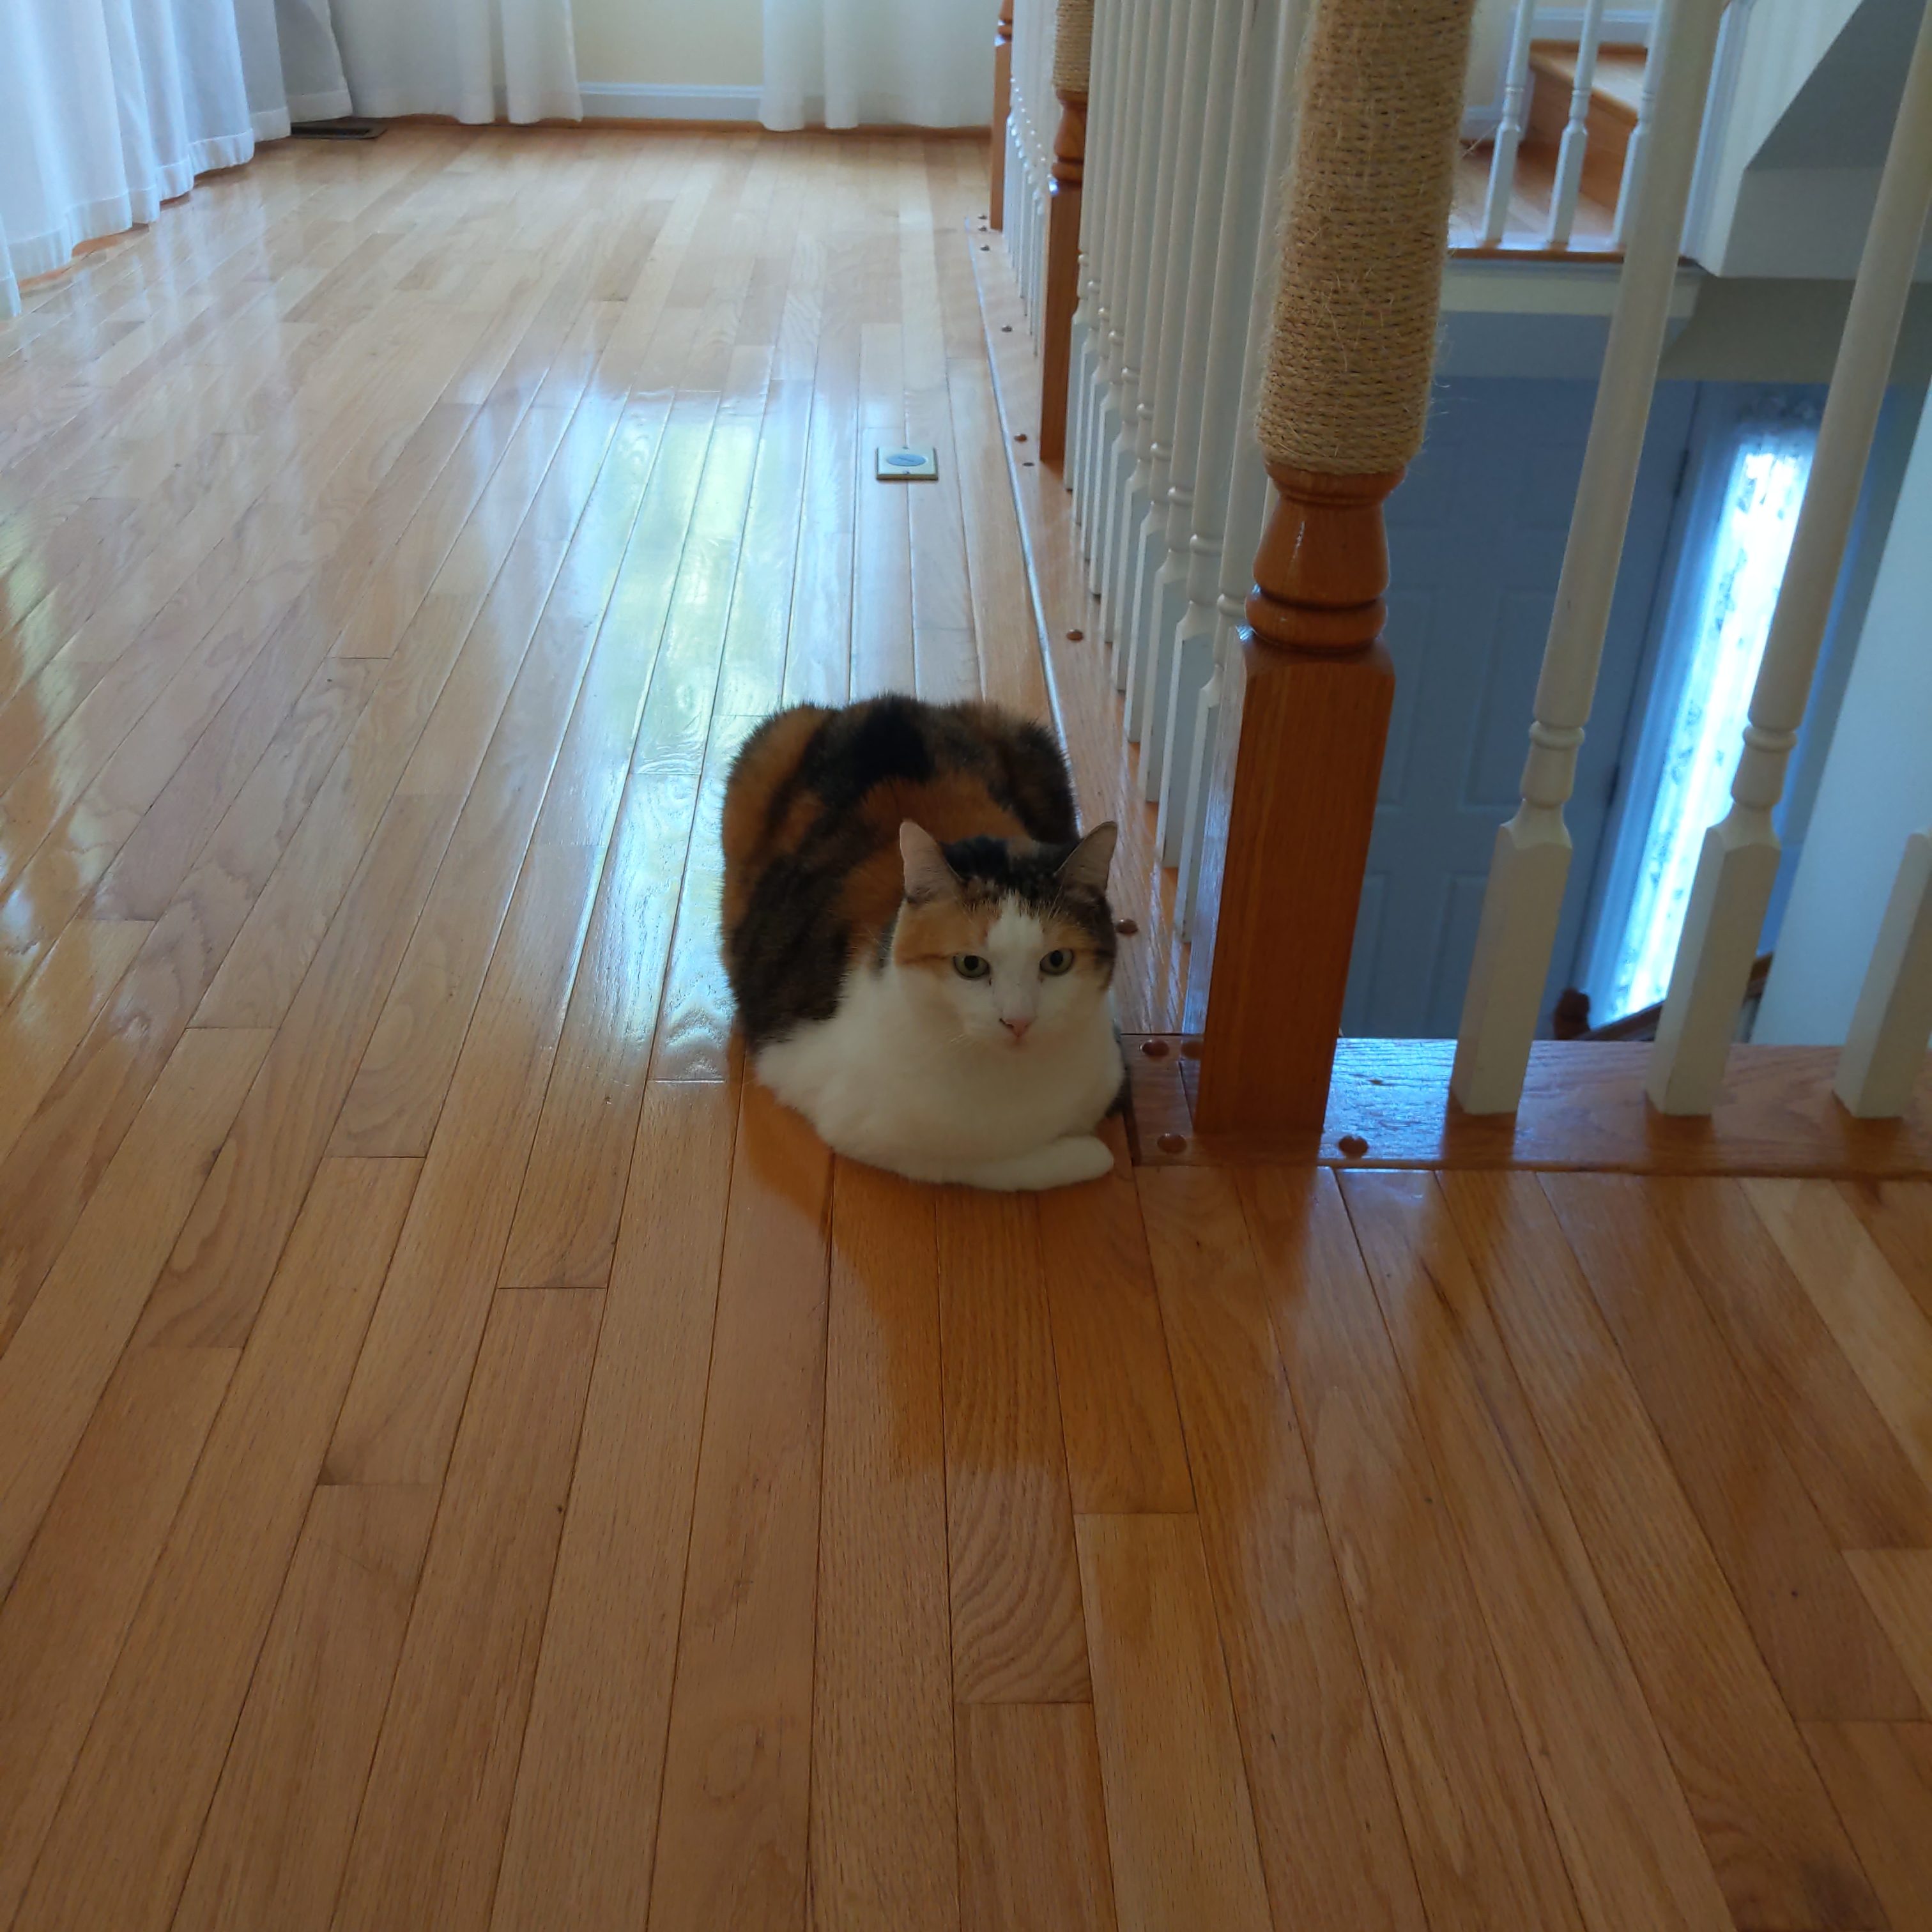Calico: (718, 694, 1123, 1189)
